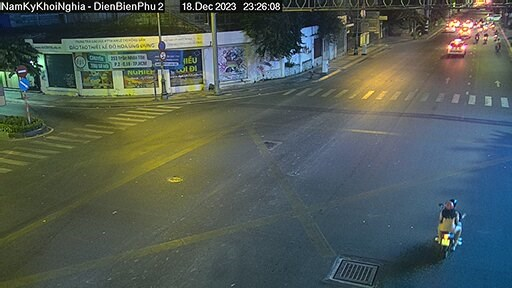motorbike: (431, 196, 466, 259)
